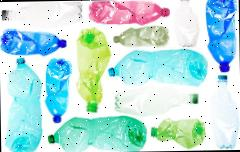plastic: (107, 48, 208, 88), (47, 115, 147, 152)
